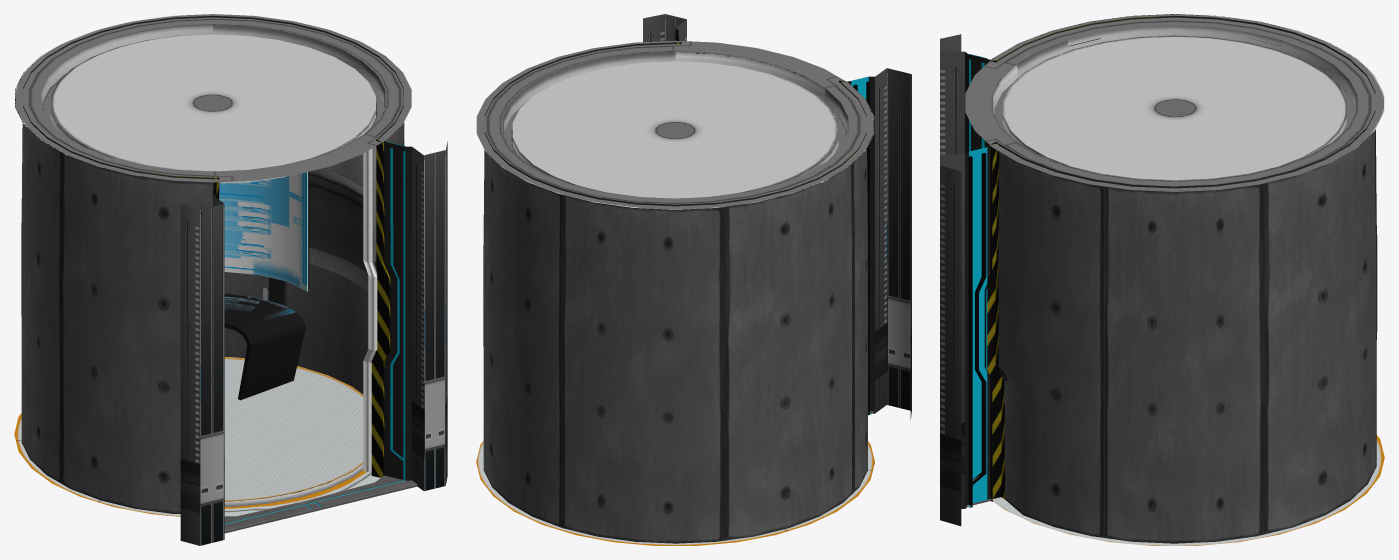
File: EndDoor.fbx
3 renders of one model, left to right at view 1: azimuth 30°, elevation 25°; view 2: azimuth 150°, elevation 25°; view 3: azimuth 270°, elevation 25°, orthographic. The views are drawn at different scales.
Visible parts, largest first — view 1: EndDoor_Frame1, polySurface44, EndDoor_ScreenFront, EndDoor_Table, VerticalGlowPlanes; view 2: EndDoor_Frame1; view 3: EndDoor_Frame1, VerticalGlowPlanes.
Boxes of the visible parts, left/top/right/bottom form: EndDoor_Frame1: left=14, top=14, right=447, bottom=545; polySurface44: left=224, top=146, right=377, bottom=472; EndDoor_ScreenFront: left=219, top=172, right=308, bottom=291; EndDoor_Table: left=224, top=293, right=305, bottom=400; VerticalGlowPlanes: left=388, top=142, right=405, bottom=480; EndDoor_Frame1: left=476, top=14, right=911, bottom=545; EndDoor_Frame1: left=940, top=14, right=1384, bottom=545; VerticalGlowPlanes: left=969, top=54, right=987, bottom=503.
Size of the model in its own units: 4.85 by 4.6 by 5.12.
7 materials, 4 textured.
